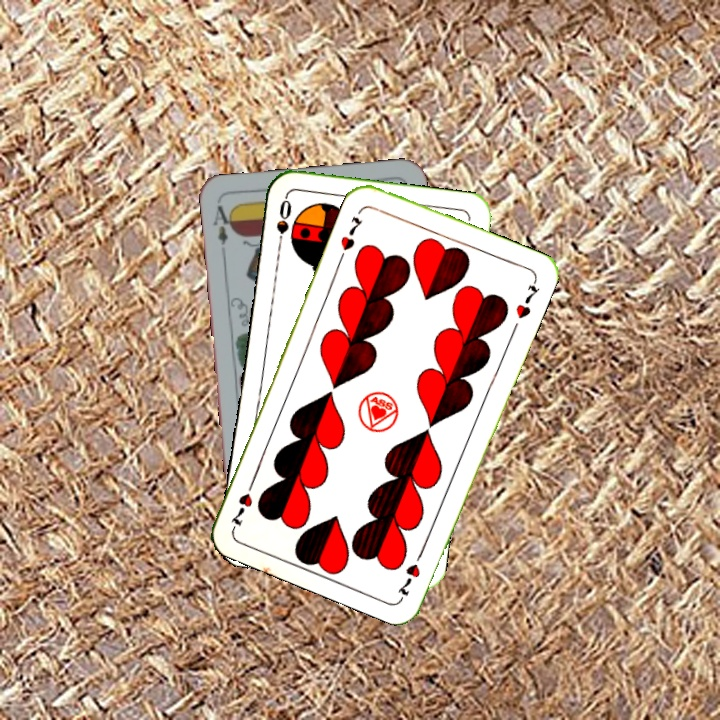EA: (208, 201, 236, 248)
H7: (393, 544, 427, 600), (336, 212, 366, 254)
SO: (272, 193, 294, 252)
